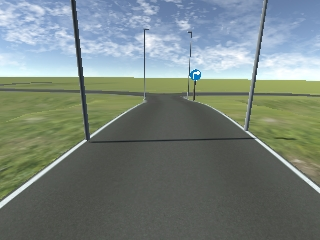right: (188, 70, 201, 80)
